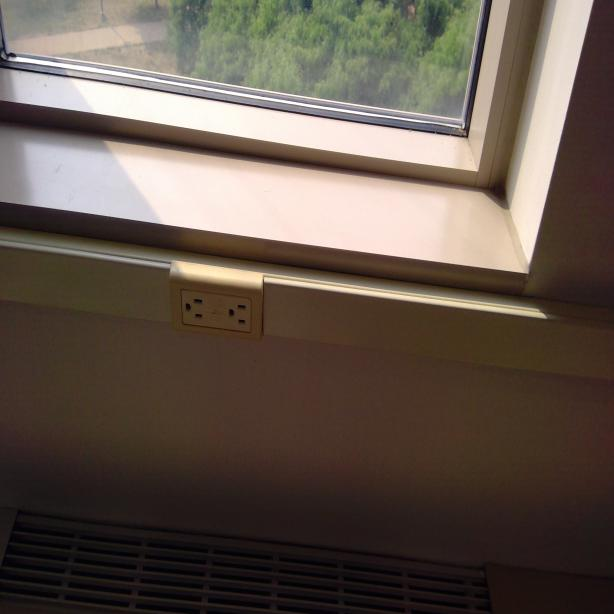typeb: (180, 289, 208, 328), (225, 297, 250, 335)
